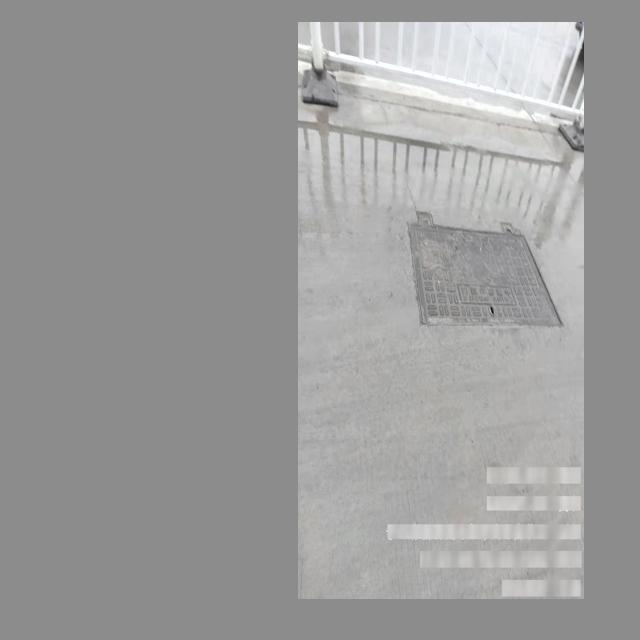good: (400, 216, 567, 333)
